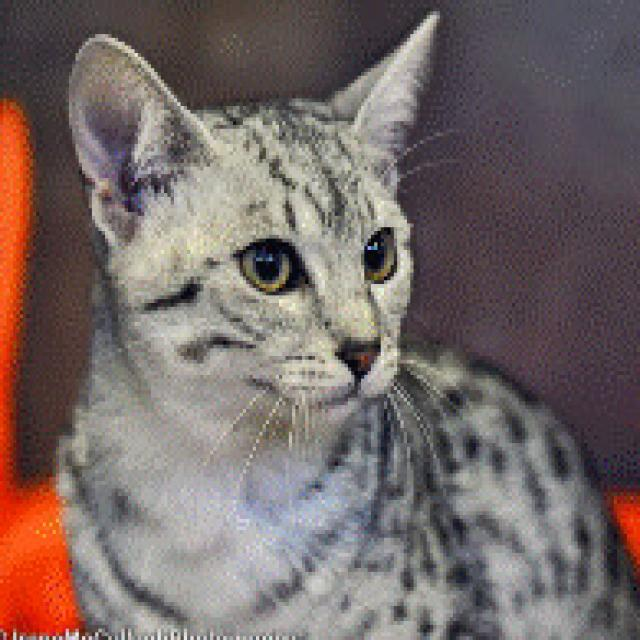Egyptian Mau: (46, 0, 640, 640)
